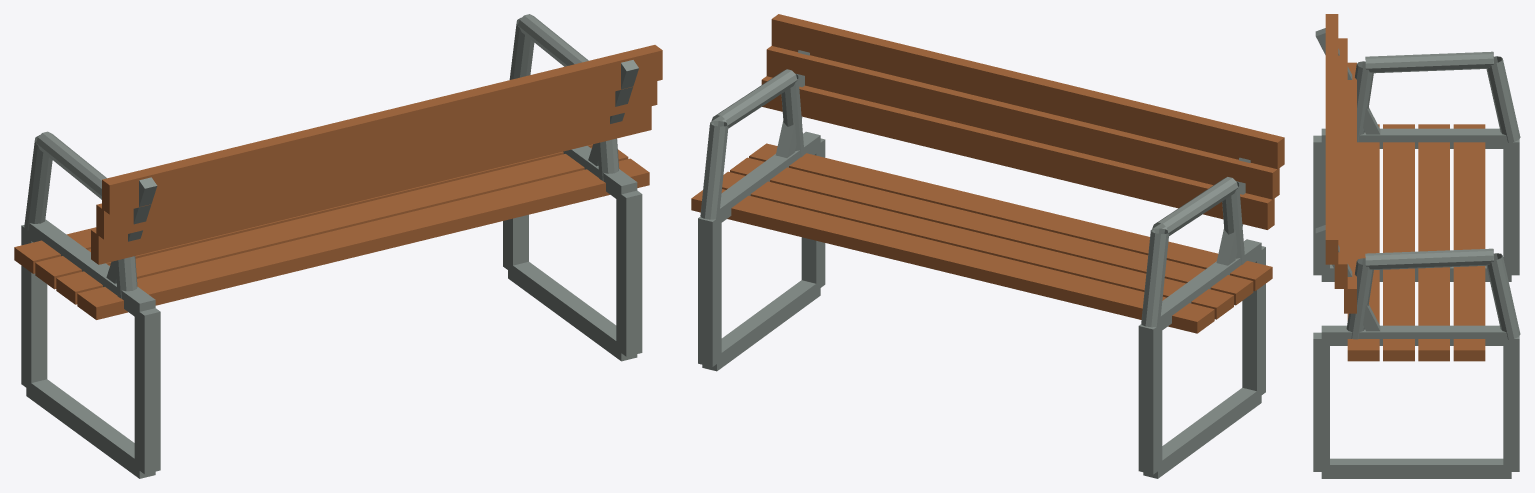
3 renders of one model, left to right at view 1: azimuth 30°, elevation 25°; view 2: azimuth 150°, elevation 25°; view 3: azimuth 270°, elevation 25°, orthographic. The views are drawn at different scales.
Parts seen in each view (by area): view 1: SW-L505; view 2: SW-L505; view 3: SW-L505.
Boxes of the visible parts, <box> form: SW-L505: <box>14,14,662,478</box>; SW-L505: <box>691,14,1284,478</box>; SW-L505: <box>1313,14,1520,478</box>.
Bounding box in the file's own units: 1.55 × 0.8 × 0.6.
